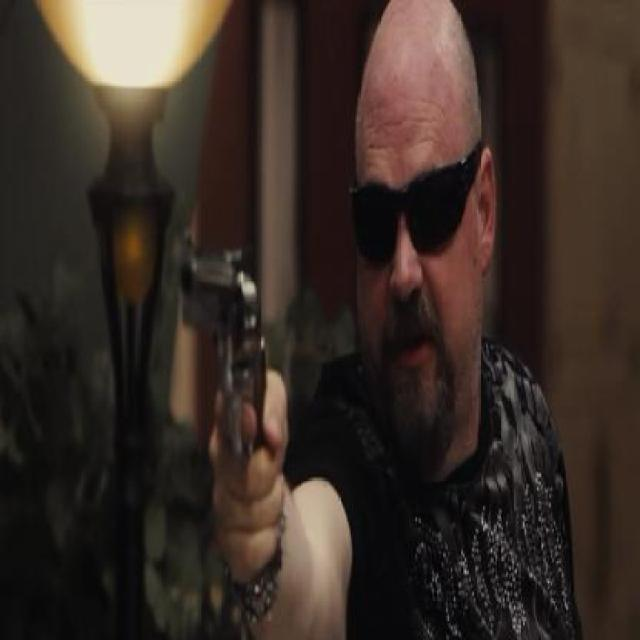gun: (175, 209, 288, 480)
